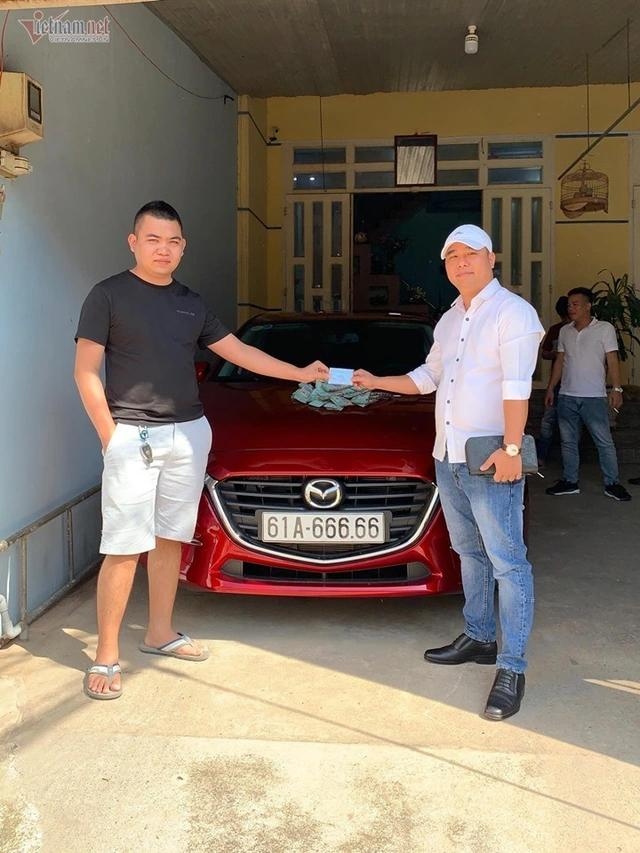numplate: (255, 502, 391, 548)
